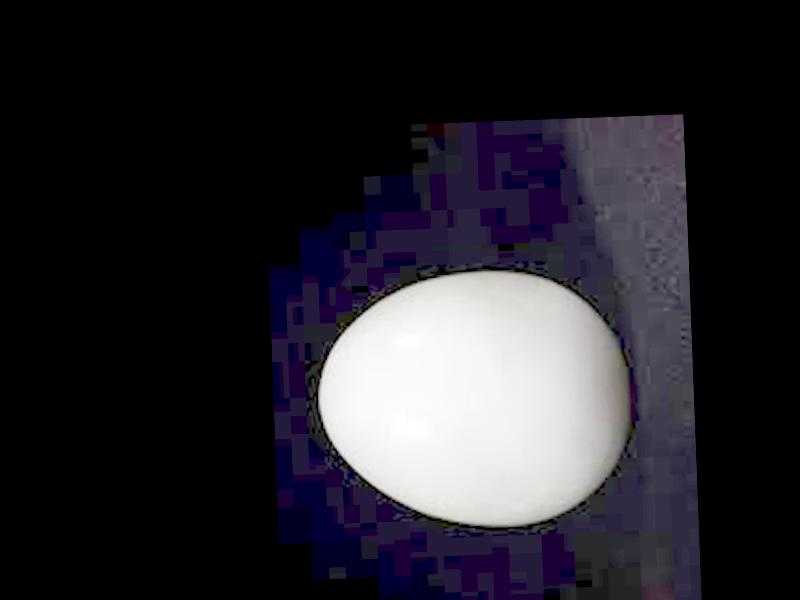Eggs: (316, 268, 637, 528)
